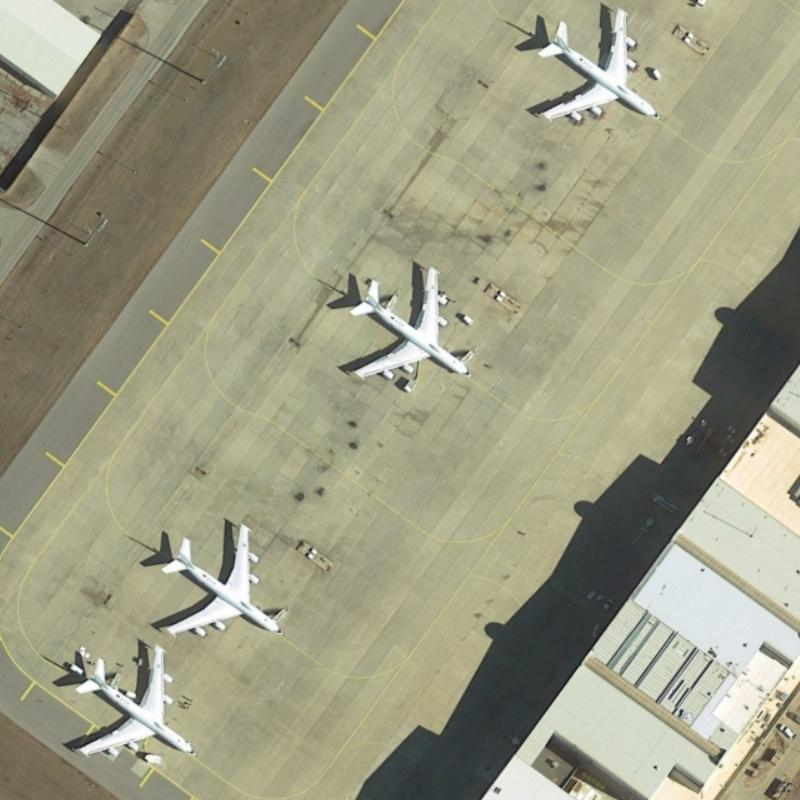A11: (332, 256, 477, 388), (528, 0, 664, 138), (62, 636, 198, 771), (145, 514, 290, 640)
